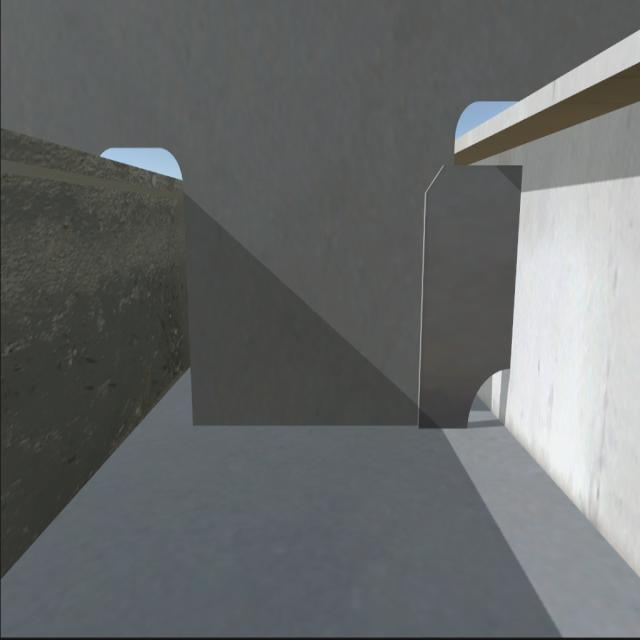fillet_hole: (464, 366, 512, 436)
fillet_yong_jeop_jang: (190, 421, 468, 437)
longi_yong_jeop_jang: (508, 163, 521, 364)
plate_CP03: (422, 167, 516, 427)
